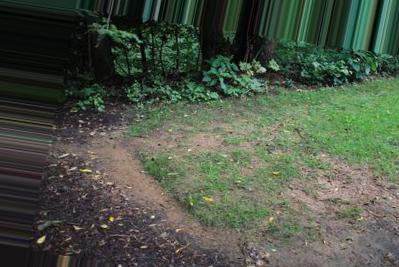patch: (99, 146, 133, 183), (169, 131, 224, 152)
